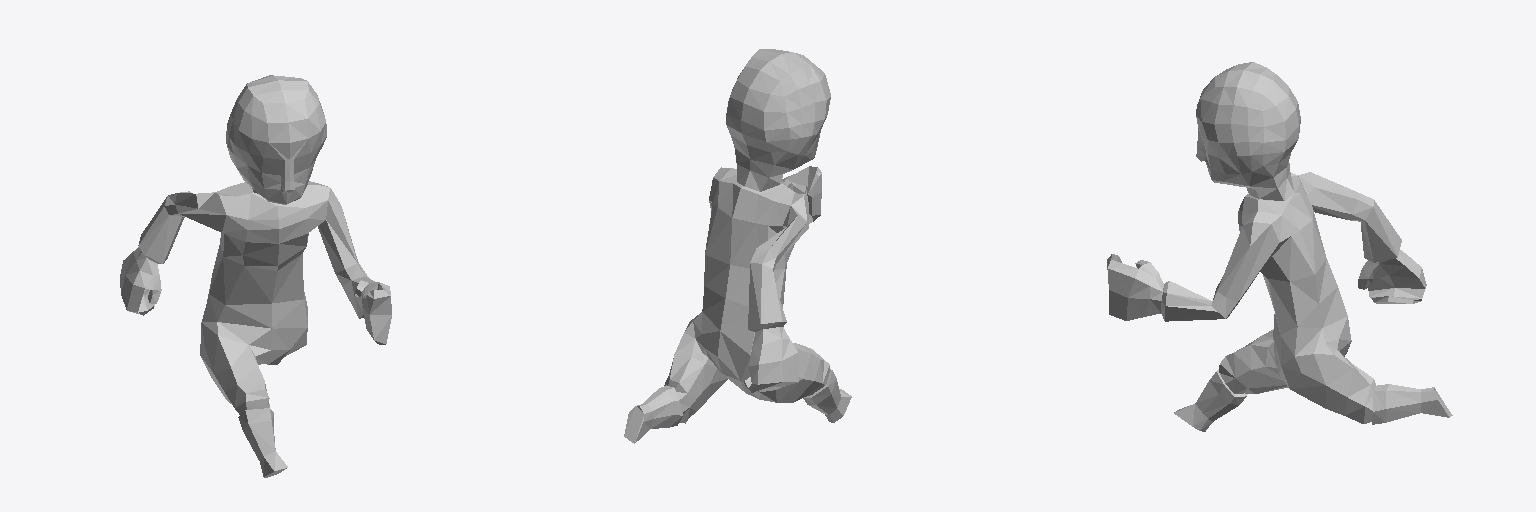
File: KnightCharacter20.obj
The picture shows the model from 3 angles: view 1: azimuth 30°, elevation 25°; view 2: azimuth 150°, elevation 25°; view 3: azimuth 270°, elevation 25°; orthographic projection.
Parts seen in each view (by area): view 1: Knight; view 2: Knight; view 3: Knight.
Part boxes in pixels (x1,y1,x2,y2): Knight: (120,75,391,477); Knight: (624,49,851,443); Knight: (1107,62,1452,431).
Size of the model in its own units: 2.21 by 4.94 by 4.11.